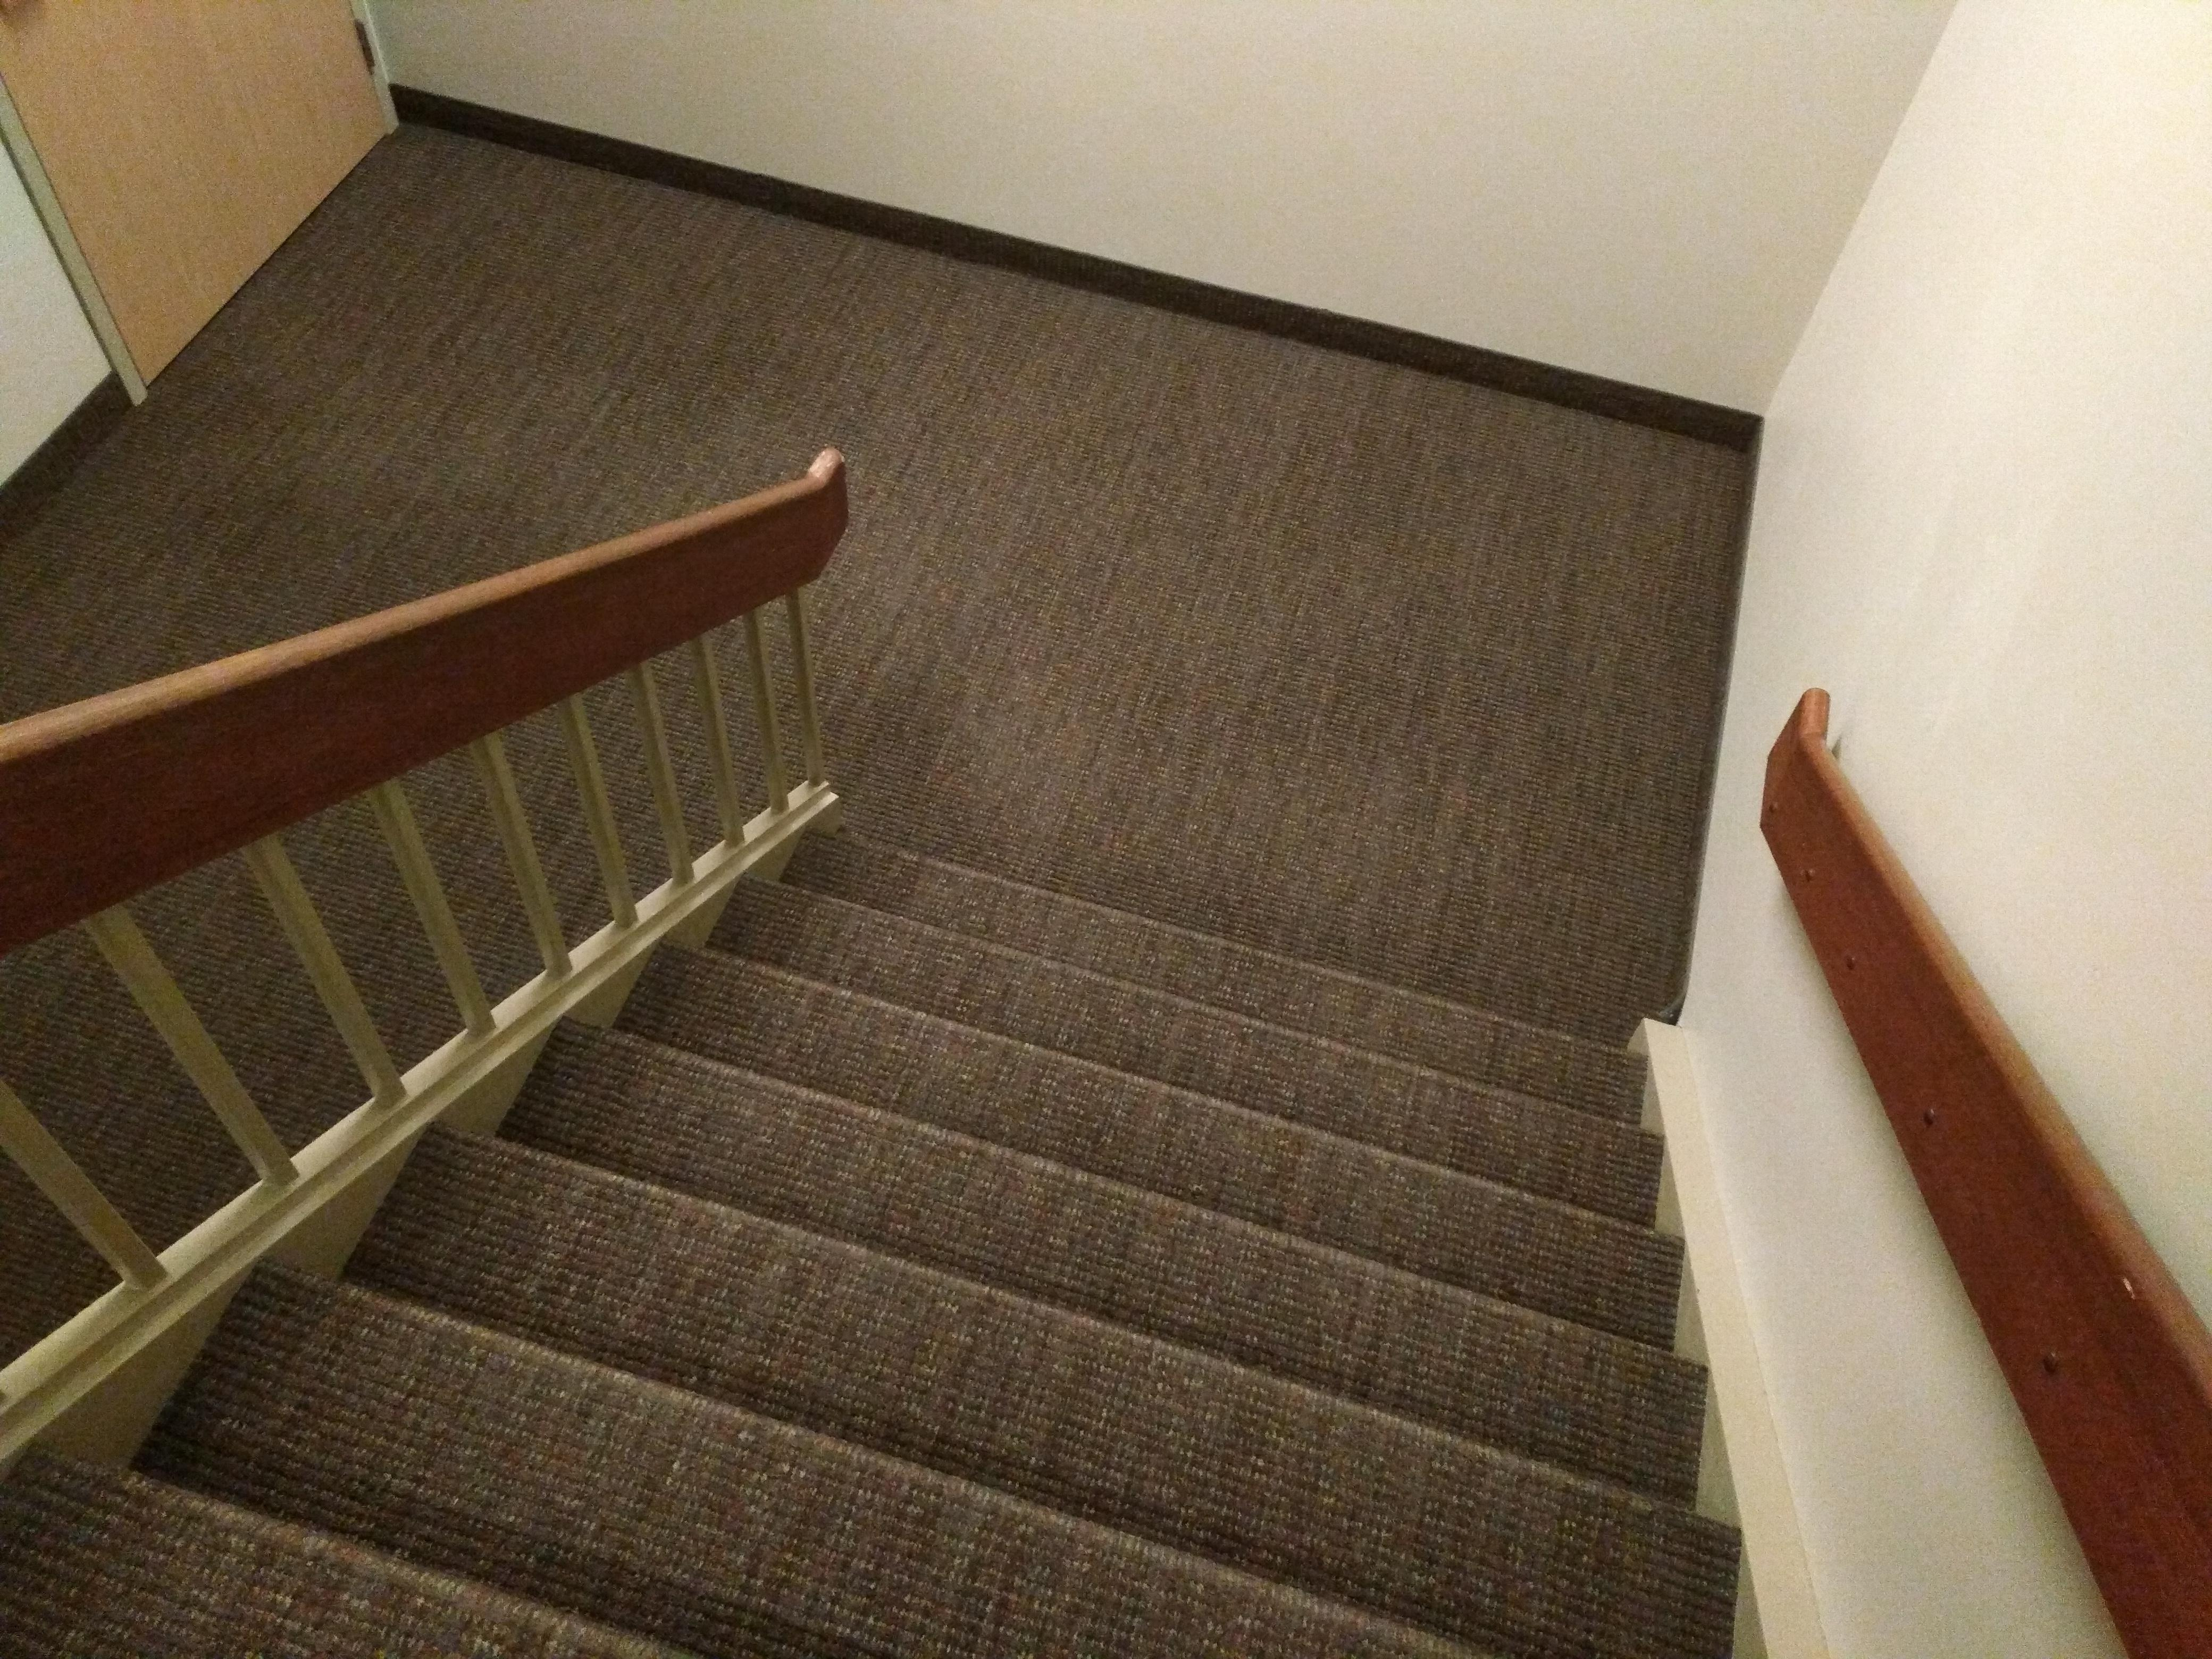stairs_down: (0, 795, 1700, 1659)
